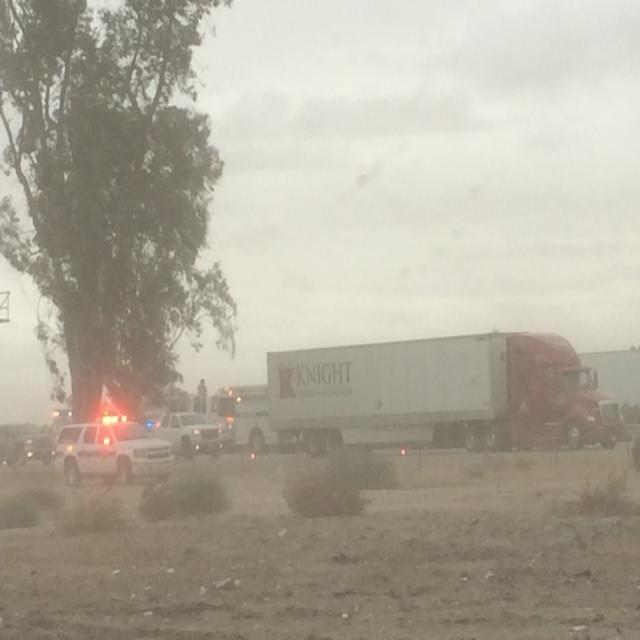bus: (265, 334, 627, 454), (219, 383, 276, 453)
car: (54, 421, 174, 489), (152, 414, 224, 462), (1, 423, 54, 467)
